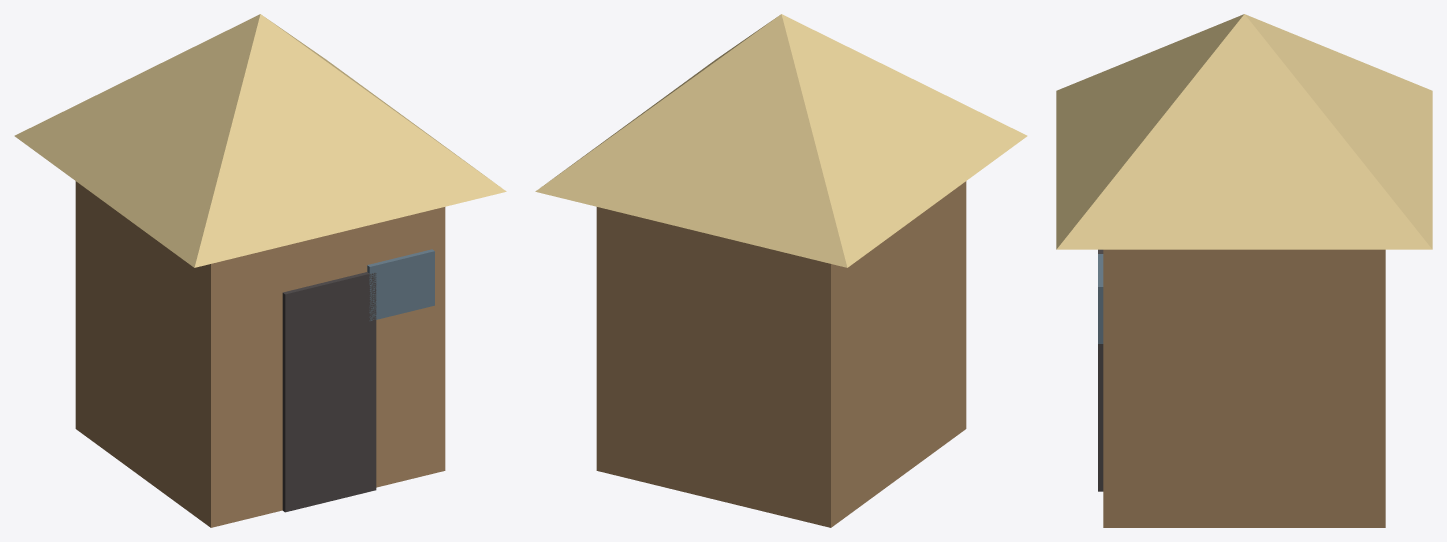
The model's file is IZ_Caseta.fbx.
The picture shows the model from 3 angles, left to right: view 1: azimuth 30°, elevation 25°; view 2: azimuth 150°, elevation 25°; view 3: azimuth 270°, elevation 25°; orthographic projection. The views are drawn at different scales.
Parts seen in each view (by area): view 1: IZ_Caseta; view 2: IZ_Caseta; view 3: IZ_Caseta.
Boxes of the visible parts, x1=… form: IZ_Caseta: x1=14, y1=14, x2=506, y2=527; IZ_Caseta: x1=535, y1=14, x2=1027, y2=527; IZ_Caseta: x1=1056, y1=14, x2=1432, y2=527.
Bounding box in the file's own units: 2.4 × 3.2 × 2.4.
